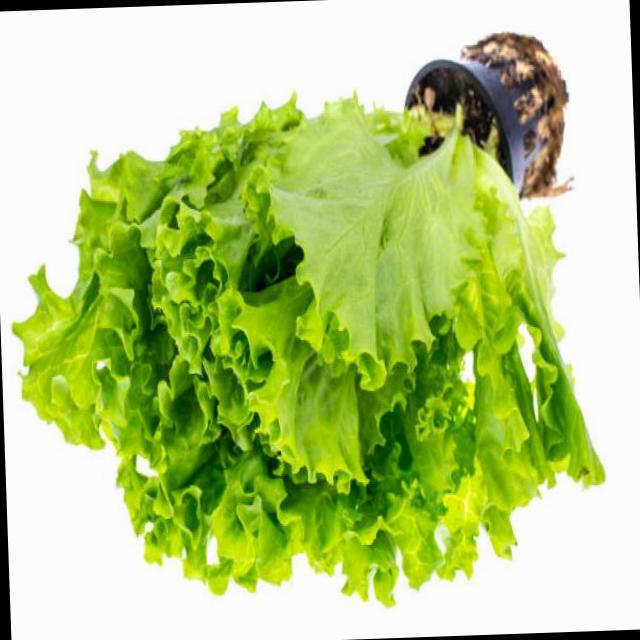Lettuce-Ready-to-Harvest: (10, 95, 607, 608)
